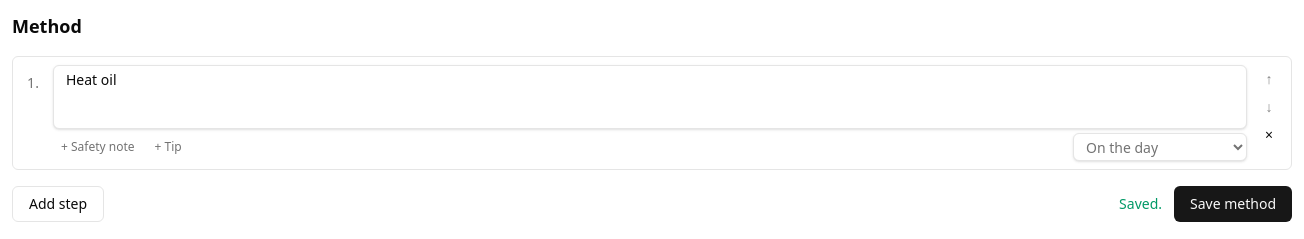
MethodEditor › clears the "Saved." notice once a step is edited
The width and height of the screenshot is (1304, 239).
Expected: the text "Saved." is shown, [1119, 194, 1162, 214]
// Editing a step marks the section dirty — the stale notice must go.
Type " more" into the text box named "Step 1 text" at (650, 97), box [53, 65, 1247, 129]
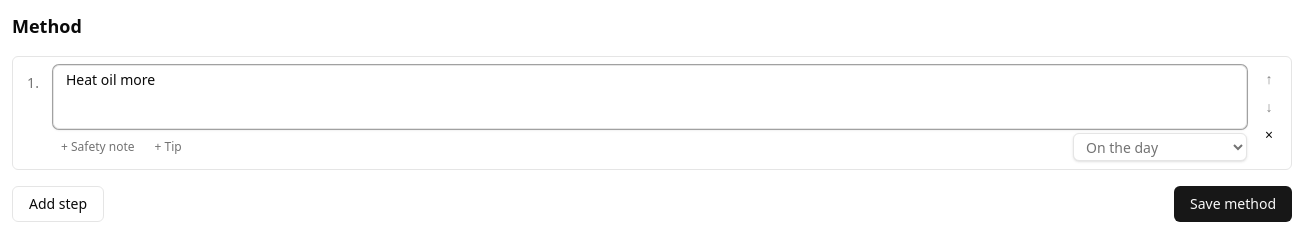
Result: the text "Saved." is gone
